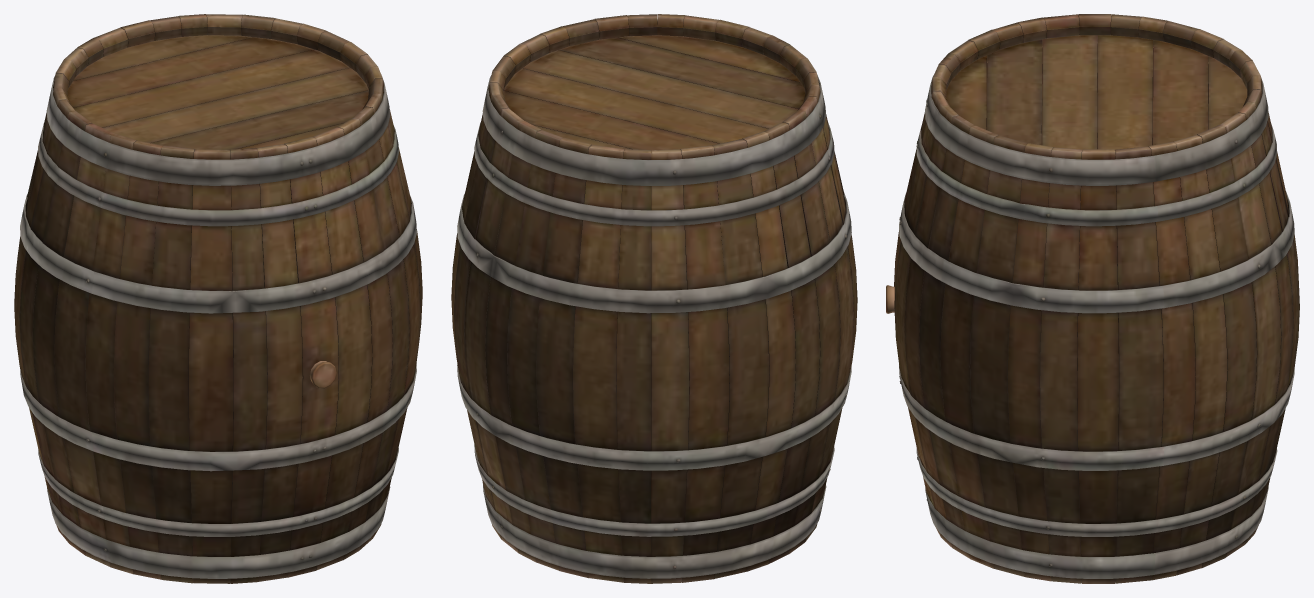
File: wine_barrel_01.glb
3 views of the same model, side by side, from view 1: azimuth 30°, elevation 25°; view 2: azimuth 150°, elevation 25°; view 3: azimuth 270°, elevation 25° (orthographic).
Parts seen in each view (by area): view 1: wine_barrel_01, wine_barrel_01_Lid, wine_barrel_01_bung; view 2: wine_barrel_01, wine_barrel_01_Lid; view 3: wine_barrel_01, wine_barrel_01_Lid.
Boxes of the visible parts, x1,y1,x2,y2 form: wine_barrel_01: [14, 14, 422, 583]; wine_barrel_01_Lid: [67, 35, 368, 149]; wine_barrel_01_bung: [310, 361, 336, 388]; wine_barrel_01: [451, 14, 857, 583]; wine_barrel_01_Lid: [503, 35, 805, 152]; wine_barrel_01: [894, 14, 1299, 583]; wine_barrel_01_Lid: [946, 35, 1247, 149].
Bounding box in the file's own units: 0.7419 × 0.8695 × 0.7561.
1 material, 1 textured.
